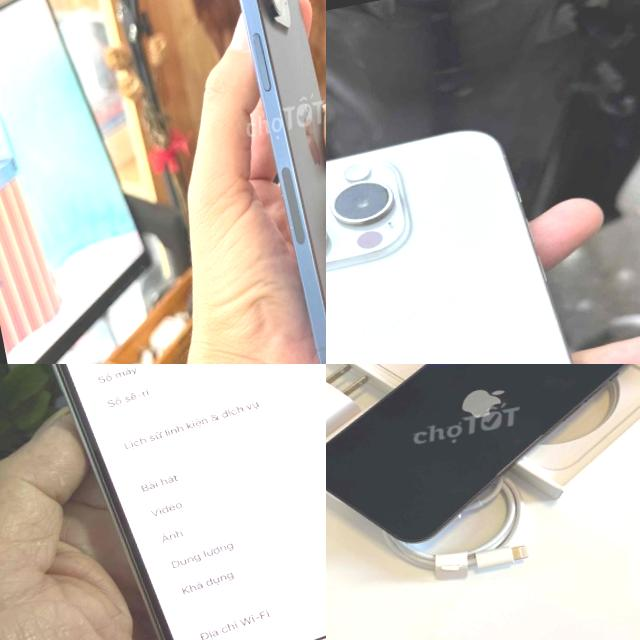gen_12_13: (326, 364, 640, 563)
gen_14: (0, 364, 326, 640)
gen_15: (326, 103, 638, 364), (184, 0, 326, 364)
scratch: (279, 188, 286, 200), (287, 222, 295, 232), (303, 236, 308, 242)
